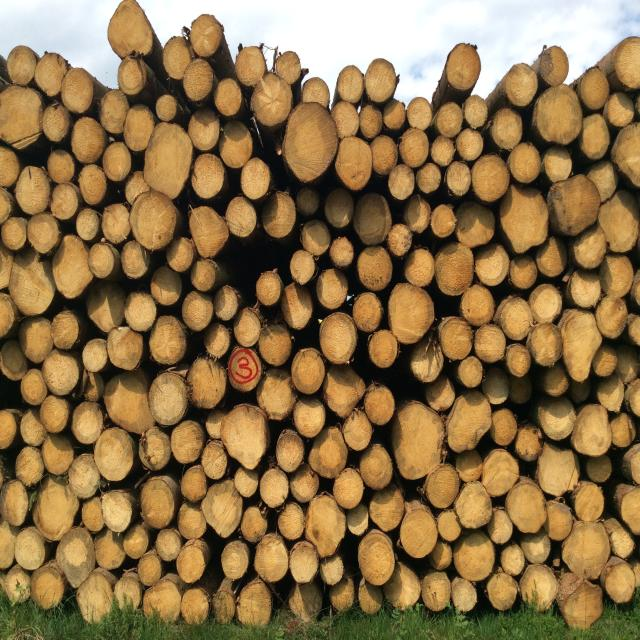wood-log: (280, 102, 340, 184), (393, 402, 446, 481), (144, 123, 195, 197), (496, 186, 550, 254), (550, 174, 602, 237), (8, 246, 54, 316), (221, 403, 269, 469), (106, 369, 156, 431), (388, 284, 436, 346), (534, 87, 584, 146), (33, 476, 79, 539), (561, 312, 603, 381), (562, 520, 610, 580), (131, 190, 179, 249), (447, 390, 492, 452), (307, 492, 349, 556), (0, 87, 43, 149), (52, 235, 93, 299), (57, 526, 96, 591), (109, 0, 155, 55), (251, 75, 295, 132), (201, 482, 244, 539), (600, 192, 640, 252), (82, 280, 125, 334), (433, 242, 474, 298), (149, 370, 191, 424), (324, 364, 366, 418), (558, 579, 603, 629), (536, 446, 579, 498), (573, 402, 613, 457), (94, 430, 136, 482), (187, 357, 229, 409), (257, 367, 298, 420), (399, 505, 440, 558), (506, 478, 546, 532), (454, 531, 496, 582), (190, 206, 230, 259), (353, 191, 392, 245), (312, 424, 351, 478), (454, 198, 496, 248), (357, 531, 395, 586), (336, 137, 373, 192), (150, 316, 190, 366), (382, 564, 422, 613), (78, 570, 114, 624), (482, 448, 521, 497), (141, 475, 177, 528), (612, 120, 640, 188), (319, 312, 357, 362), (145, 576, 184, 624), (262, 190, 299, 240), (15, 164, 52, 214), (454, 482, 493, 529), (472, 154, 510, 202), (369, 485, 407, 533), (218, 119, 254, 169), (519, 565, 556, 613), (238, 579, 274, 628), (42, 350, 82, 394), (255, 534, 290, 584), (355, 246, 393, 292), (410, 334, 446, 382), (124, 104, 158, 154), (68, 451, 104, 498), (73, 117, 109, 164), (538, 398, 577, 441), (424, 464, 461, 509), (292, 350, 328, 396), (192, 154, 228, 200), (446, 45, 481, 92), (504, 64, 541, 108), (357, 444, 393, 489), (171, 421, 207, 466), (229, 346, 265, 391), (108, 326, 144, 371), (280, 284, 314, 331), (439, 316, 475, 360), (30, 564, 64, 610), (20, 318, 53, 364), (259, 324, 295, 366), (40, 433, 76, 475), (527, 324, 562, 367), (599, 255, 634, 298), (594, 295, 628, 339), (500, 296, 533, 341), (62, 67, 94, 113), (573, 226, 608, 268), (190, 14, 224, 57), (580, 115, 612, 160), (475, 246, 511, 286), (182, 59, 216, 101), (70, 402, 104, 444), (227, 195, 260, 238), (36, 52, 68, 96), (99, 90, 131, 134), (189, 109, 221, 153), (460, 283, 494, 324), (240, 158, 273, 200), (580, 69, 612, 112), (366, 59, 398, 102), (603, 561, 635, 604), (101, 488, 132, 532), (141, 426, 172, 470), (0, 478, 29, 525), (294, 398, 328, 438), (151, 265, 185, 305), (510, 143, 543, 184), (490, 109, 523, 150), (235, 45, 268, 86), (27, 210, 59, 252), (364, 383, 396, 425), (537, 45, 569, 87), (316, 268, 348, 310), (115, 566, 144, 612), (288, 540, 319, 583), (342, 408, 373, 451), (404, 248, 437, 288), (8, 46, 40, 87), (572, 480, 604, 521), (487, 570, 518, 612), (566, 271, 601, 308), (163, 37, 193, 80), (276, 429, 306, 472), (400, 127, 432, 167), (334, 468, 366, 508), (126, 292, 158, 332), (369, 328, 401, 368), (530, 284, 562, 324), (183, 292, 215, 332), (596, 373, 628, 413), (615, 39, 640, 90), (78, 164, 108, 206), (16, 526, 46, 568), (176, 540, 206, 582), (474, 325, 506, 364), (535, 240, 567, 279), (43, 102, 74, 142), (259, 468, 290, 508), (546, 500, 576, 541), (352, 292, 382, 333), (0, 563, 30, 604), (422, 374, 456, 410), (587, 161, 618, 200), (102, 141, 132, 181), (200, 441, 230, 481), (0, 340, 30, 380), (95, 528, 124, 569), (422, 572, 451, 613), (103, 203, 132, 244), (121, 239, 150, 279), (16, 446, 45, 486), (403, 195, 432, 235), (41, 396, 72, 433), (326, 188, 352, 232), (181, 586, 210, 625), (291, 464, 320, 503), (481, 366, 510, 405), (604, 92, 636, 127), (221, 540, 249, 580), (510, 254, 540, 291), (204, 322, 233, 360), (51, 184, 80, 222), (338, 66, 367, 104), (491, 408, 520, 446), (166, 236, 196, 272), (372, 136, 399, 176), (514, 426, 544, 462), (212, 580, 236, 625), (303, 221, 332, 258), (177, 504, 206, 541), (216, 80, 244, 118), (180, 465, 208, 503), (240, 506, 268, 544), (20, 407, 48, 445), (117, 56, 145, 94), (233, 308, 261, 346), (330, 576, 358, 614), (542, 148, 572, 183), (619, 487, 640, 537), (387, 163, 415, 200), (52, 313, 80, 350), (20, 367, 47, 405), (540, 364, 572, 396), (522, 532, 552, 566), (487, 506, 513, 545), (90, 240, 116, 279), (48, 150, 76, 186), (256, 270, 284, 306), (438, 100, 466, 136), (332, 101, 360, 137), (278, 504, 305, 541), (125, 522, 152, 558), (190, 259, 219, 292), (454, 450, 483, 483), (612, 412, 637, 450), (450, 578, 476, 614), (213, 284, 239, 320), (456, 128, 483, 162), (430, 204, 457, 238), (137, 551, 163, 586), (289, 250, 315, 285), (386, 224, 412, 259), (1, 215, 27, 250), (500, 540, 525, 576), (81, 340, 108, 373), (275, 51, 302, 84), (446, 160, 470, 197), (158, 526, 184, 560), (438, 508, 464, 542), (506, 343, 532, 377), (124, 170, 150, 204), (463, 95, 489, 128), (408, 97, 434, 130), (417, 161, 442, 195), (77, 207, 102, 240), (345, 504, 370, 537), (0, 146, 20, 187), (0, 519, 16, 570), (358, 580, 382, 614), (304, 78, 333, 106), (430, 135, 456, 166), (592, 345, 618, 376), (458, 354, 482, 387), (83, 497, 105, 533), (357, 106, 381, 139), (297, 184, 321, 217), (585, 454, 613, 482), (0, 291, 16, 340), (383, 99, 408, 130), (612, 526, 636, 558), (331, 238, 356, 268), (0, 408, 18, 449), (624, 441, 640, 485), (234, 468, 258, 497), (431, 541, 454, 571), (322, 555, 345, 584), (508, 375, 530, 404), (157, 94, 179, 121), (0, 244, 13, 289), (0, 185, 14, 223), (628, 377, 640, 417), (631, 270, 640, 312), (629, 316, 640, 348)
